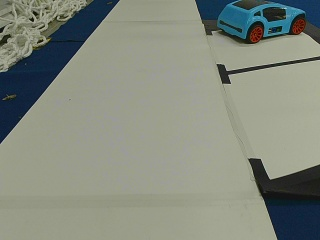car: (216, 2, 305, 42)
